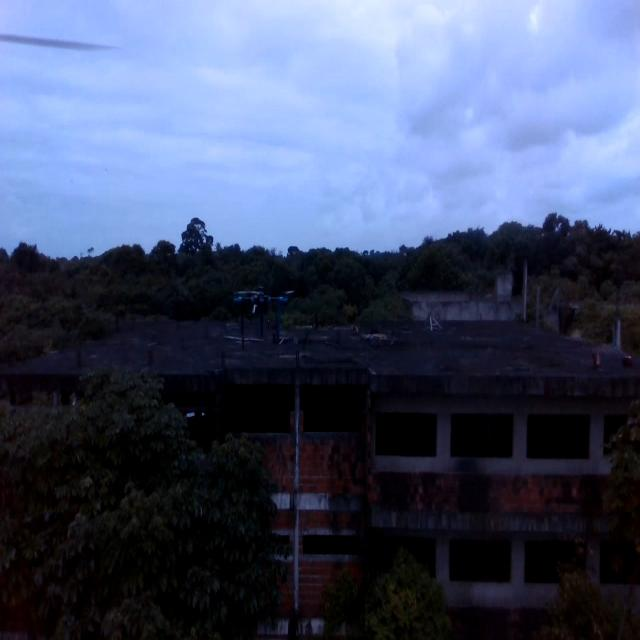-uav-: (222, 250, 306, 375)
